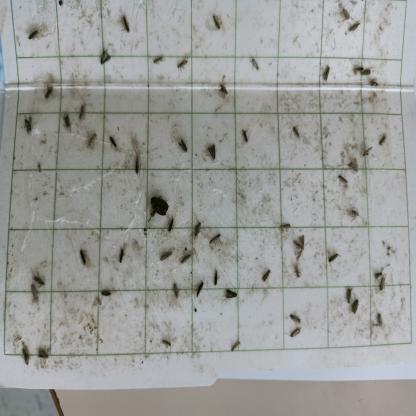prays_oleae: (290, 231, 310, 259), (98, 35, 114, 69), (34, 342, 50, 374), (20, 112, 35, 145), (75, 241, 91, 271), (120, 9, 136, 38), (317, 61, 335, 86), (324, 245, 342, 270), (190, 275, 207, 301), (159, 328, 172, 360), (32, 266, 48, 292), (174, 129, 190, 154), (210, 11, 226, 36), (286, 304, 302, 329), (26, 280, 44, 302), (238, 124, 252, 152), (276, 211, 290, 239), (209, 224, 224, 250), (131, 152, 144, 182), (249, 55, 265, 79), (113, 237, 125, 269), (192, 213, 204, 244), (40, 82, 56, 105), (27, 22, 41, 48), (223, 282, 242, 301), (148, 48, 166, 68), (228, 334, 246, 354), (153, 244, 175, 260), (374, 306, 386, 335), (203, 141, 218, 164), (96, 286, 113, 306), (108, 129, 121, 155), (173, 55, 189, 76), (342, 284, 353, 312), (290, 259, 304, 281), (84, 132, 100, 150), (331, 172, 352, 185), (361, 140, 376, 158), (19, 343, 28, 373), (347, 204, 361, 223), (288, 326, 304, 342), (347, 17, 362, 34), (60, 111, 74, 129), (352, 58, 363, 80), (350, 296, 359, 321), (376, 276, 390, 292), (261, 268, 274, 285), (212, 268, 223, 288), (218, 80, 230, 98), (171, 276, 180, 300), (292, 122, 302, 143), (166, 212, 175, 235), (364, 66, 375, 84), (77, 100, 84, 126), (370, 265, 381, 281), (178, 250, 192, 262), (370, 76, 381, 91), (348, 158, 359, 173), (338, 9, 350, 22), (380, 131, 385, 148)
